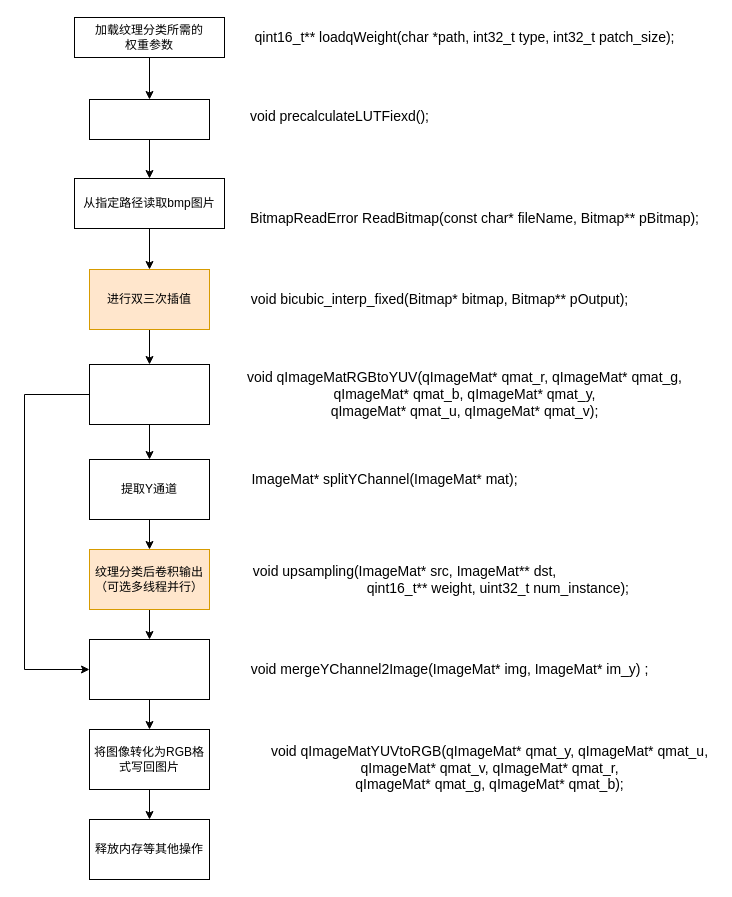
Image size: 732x897. Some labels were removed from this diagram. Each missing label, with the centre of its shape:
合并Y通道数据: point (149, 669)
将图片由RGB格式转化为YUV格式: point (149, 394)
计算纹理分类所需 系数: point (149, 119)
